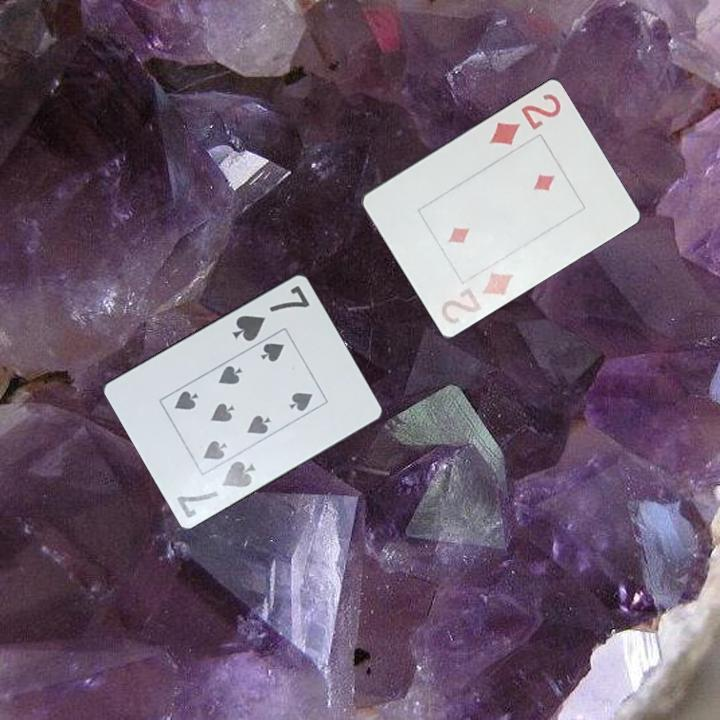2d: (437, 264, 517, 329), (485, 88, 564, 148)
7s: (173, 453, 259, 521), (228, 281, 313, 344)
